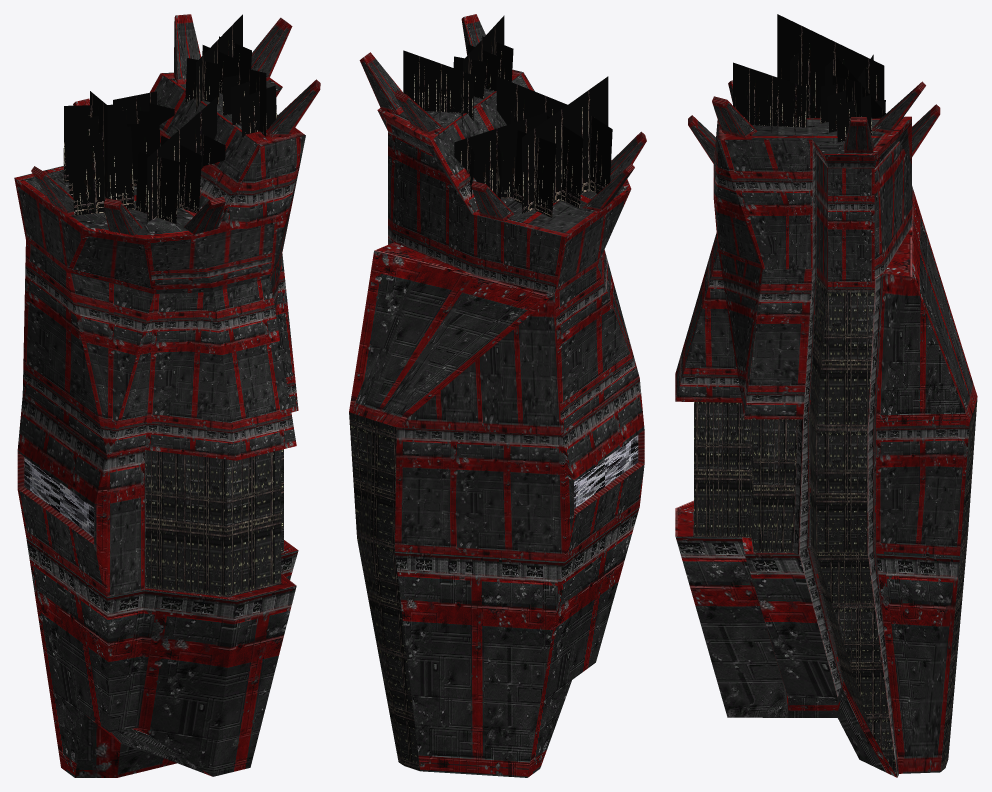
Rendered from rss05a.obj.
3 views of the same model, side by side, from view 1: azimuth 30°, elevation 25°; view 2: azimuth 150°, elevation 25°; view 3: azimuth 270°, elevation 25° (orthographic). The views are drawn at different scales.
Visible parts, largest first — view 1: LIVING_CUBE0, ANTENNA030, PLANE080; view 2: LIVING_CUBE0, ANTENNA030, PLANE080; view 3: LIVING_CUBE0, ANTENNA030.
Part boxes in pixels (x1,y1,x2,y2): LIVING_CUBE0: (14, 14, 320, 777); ANTENNA030: (63, 14, 276, 224); PLANE080: (24, 457, 93, 537); LIVING_CUBE0: (349, 14, 646, 777); ANTENNA030: (403, 15, 612, 217); PLANE080: (574, 435, 638, 508); LIVING_CUBE0: (675, 80, 977, 777); ANTENNA030: (733, 14, 886, 142).
Size of the model in its own units: 6070 by 15590 by 6041.
5 materials, 5 textured.
